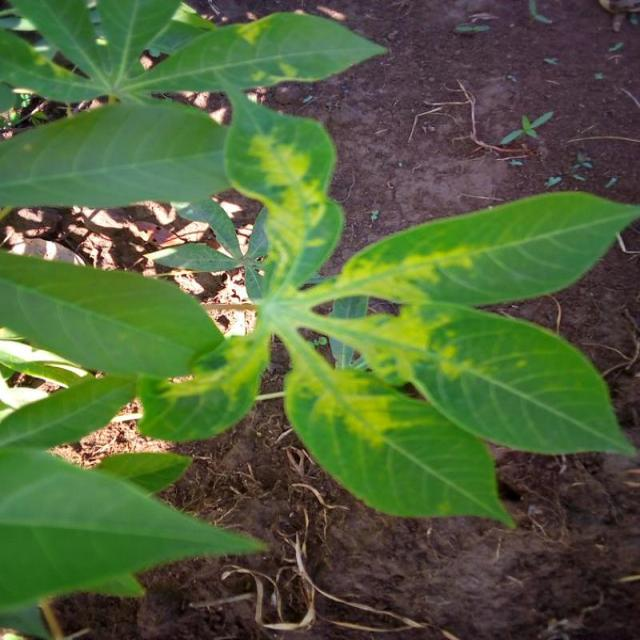cassava leaf: (0, 2, 638, 610), (337, 300, 637, 458), (0, 446, 269, 615), (282, 359, 516, 530), (328, 188, 638, 310), (0, 246, 226, 379), (0, 96, 233, 210), (119, 9, 389, 100)
